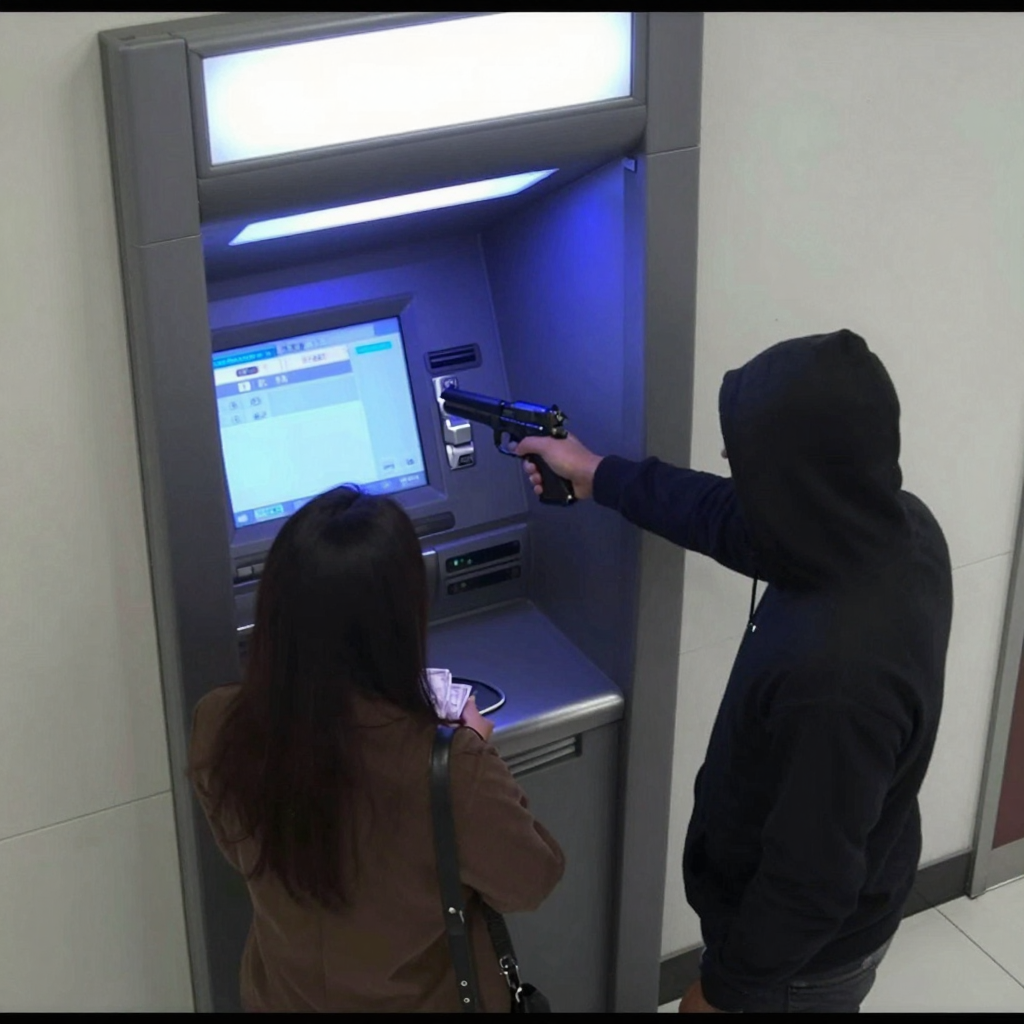Robbery: (513, 328, 955, 1013), (187, 484, 567, 1014)
Shooting: (440, 388, 575, 503)
